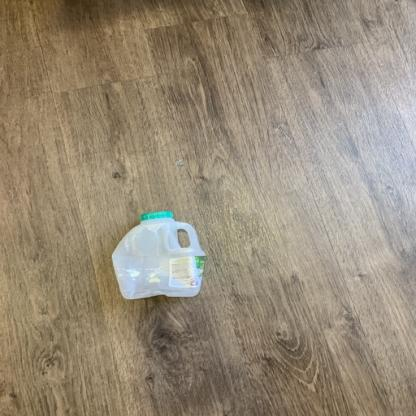trash: (111, 210, 207, 301)
